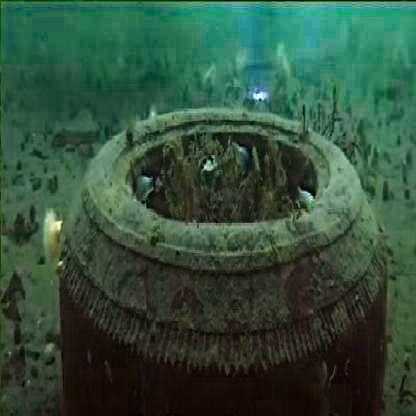tire: (62, 132, 382, 376)
